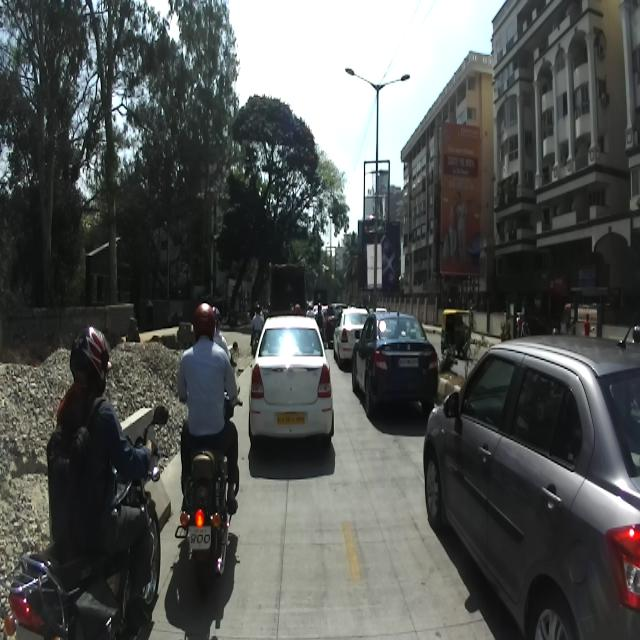car ahead at: (422, 331, 640, 640), (338, 301, 439, 409), (252, 319, 334, 439)
motorcycle ahead at: (176, 445, 242, 593)
